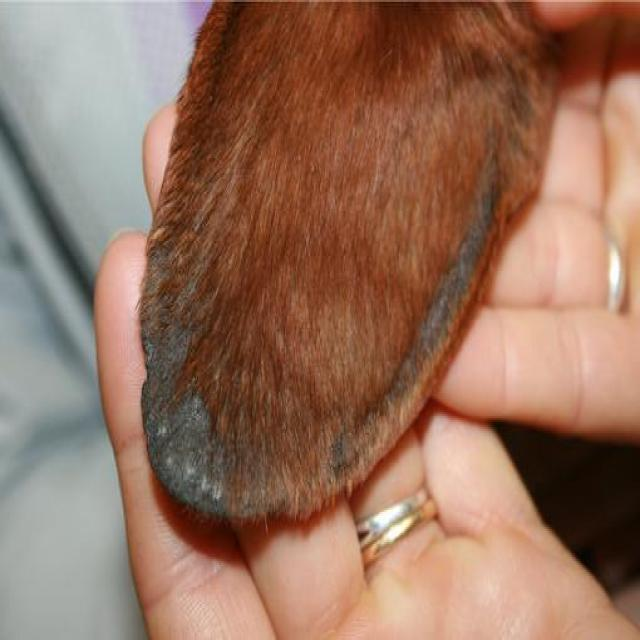viem da do vi khuan (cho): (90, 0, 592, 551)
